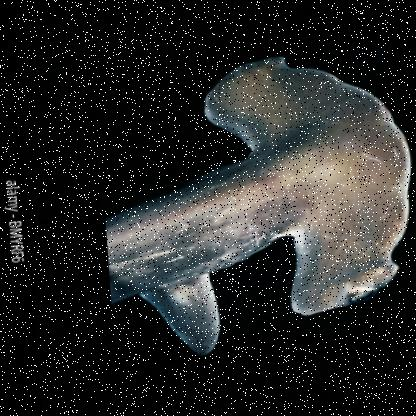hammerhead_Shark: (93, 42, 415, 367)
